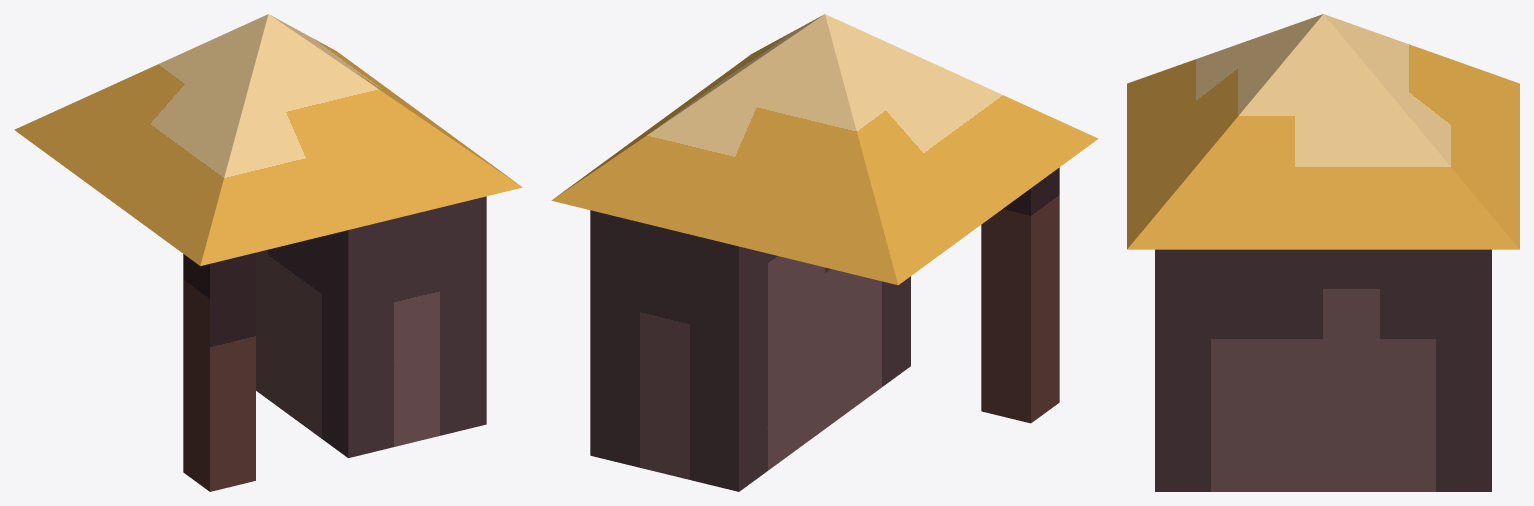
File: TempHouse5.gltf
3 renders of one model, left to right at view 1: azimuth 30°, elevation 25°; view 2: azimuth 150°, elevation 25°; view 3: azimuth 270°, elevation 25°, orthographic. The views are drawn at different scales.
Visible parts, largest first — view 1: pyramid, cube (×2); view 2: cube (×2), pyramid; view 3: cube, pyramid.
Boxes of the visible parts, x1,y1,x2,y2 form: pyramid: [14, 14, 522, 265]; cube (×2): [183, 196, 486, 491]; cube (×2): [590, 167, 1059, 491]; pyramid: [551, 14, 1098, 285]; cube: [1155, 249, 1491, 491]; pyramid: [1127, 14, 1519, 249].
Size of the model in its own units: 0.4375 by 0.5 by 0.4375.
1 material, 1 textured.
